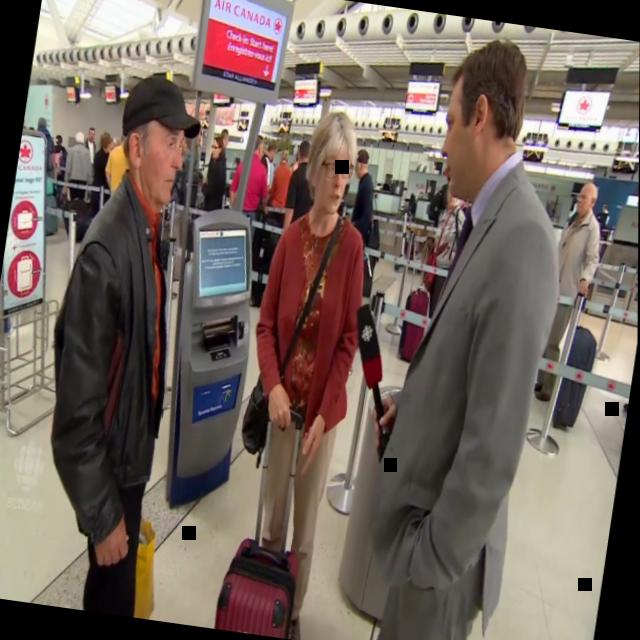luggage: (216, 532, 304, 639), (551, 324, 602, 432), (397, 287, 433, 364), (244, 230, 278, 308), (60, 197, 96, 246), (38, 192, 65, 240), (358, 252, 378, 302), (152, 241, 175, 274)
